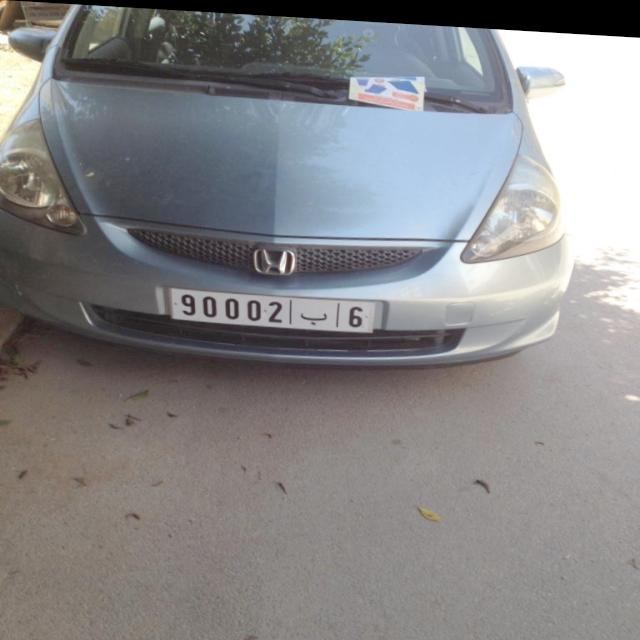License-Plate: (170, 286, 375, 328)
